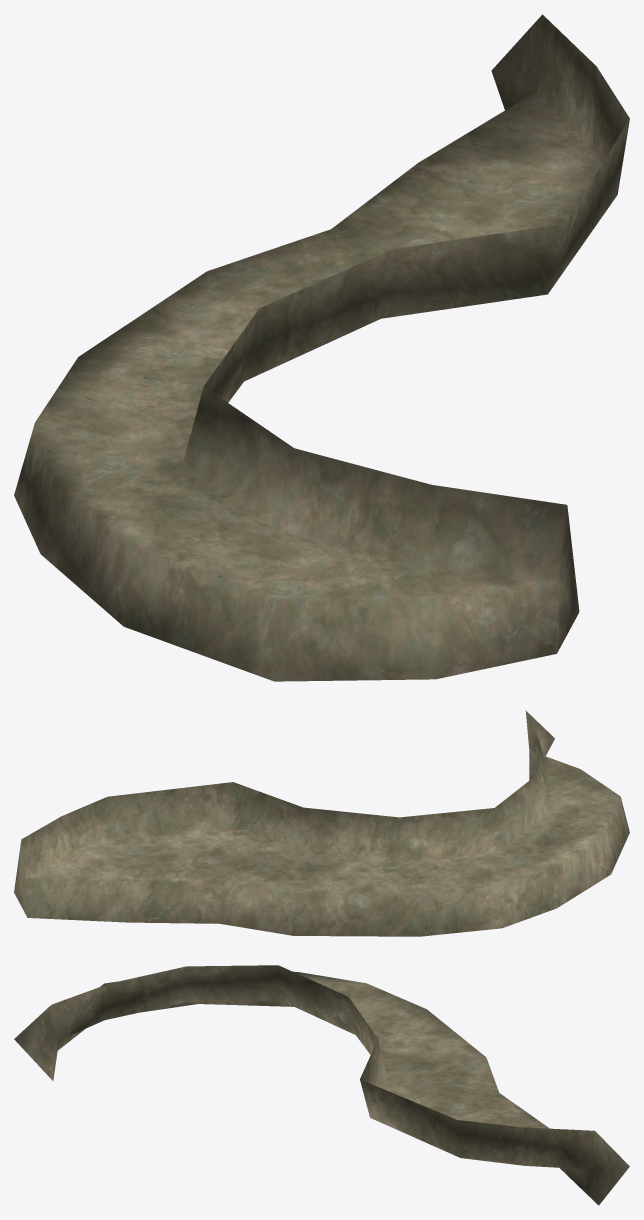
File: OVERHILL_A_01_OBJECT220.fbx
3 views of the same model, one above another, from view 1: azimuth 30°, elevation 25°; view 2: azimuth 150°, elevation 25°; view 3: azimuth 270°, elevation 25° (orthographic). The views are drawn at different scales.
Visible parts, largest first — view 1: OVERHILL_A_01_OBJECT220; view 2: OVERHILL_A_01_OBJECT220; view 3: OVERHILL_A_01_OBJECT220.
Boxes of the visible parts, <box> form: OVERHILL_A_01_OBJECT220: <box>14,14,629,681</box>; OVERHILL_A_01_OBJECT220: <box>14,710,629,936</box>; OVERHILL_A_01_OBJECT220: <box>14,965,629,1205</box>.
Bounding box in the file's own units: 53316 × 9550 × 67429.
Materials: 1 (1 with a texture image).
